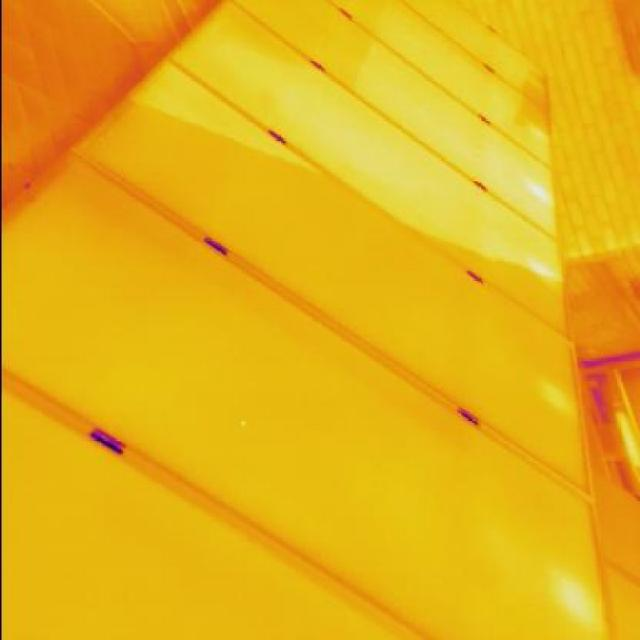hotspot: (544, 561, 611, 636), (533, 371, 582, 422), (521, 254, 564, 297), (519, 177, 558, 211), (519, 110, 552, 144)
